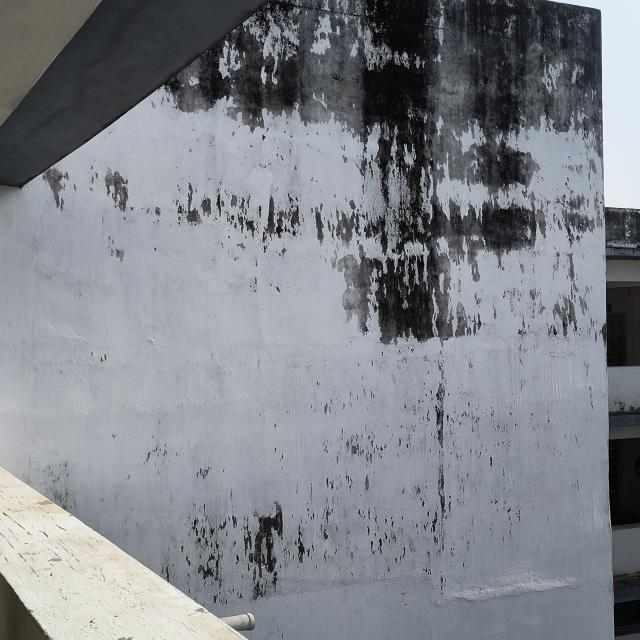stain_mould: (5, 2, 632, 640)
